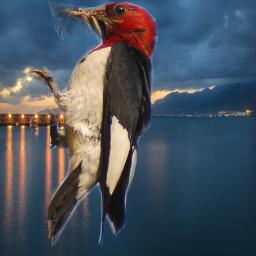Woodpecker: (29, 1, 158, 247)
